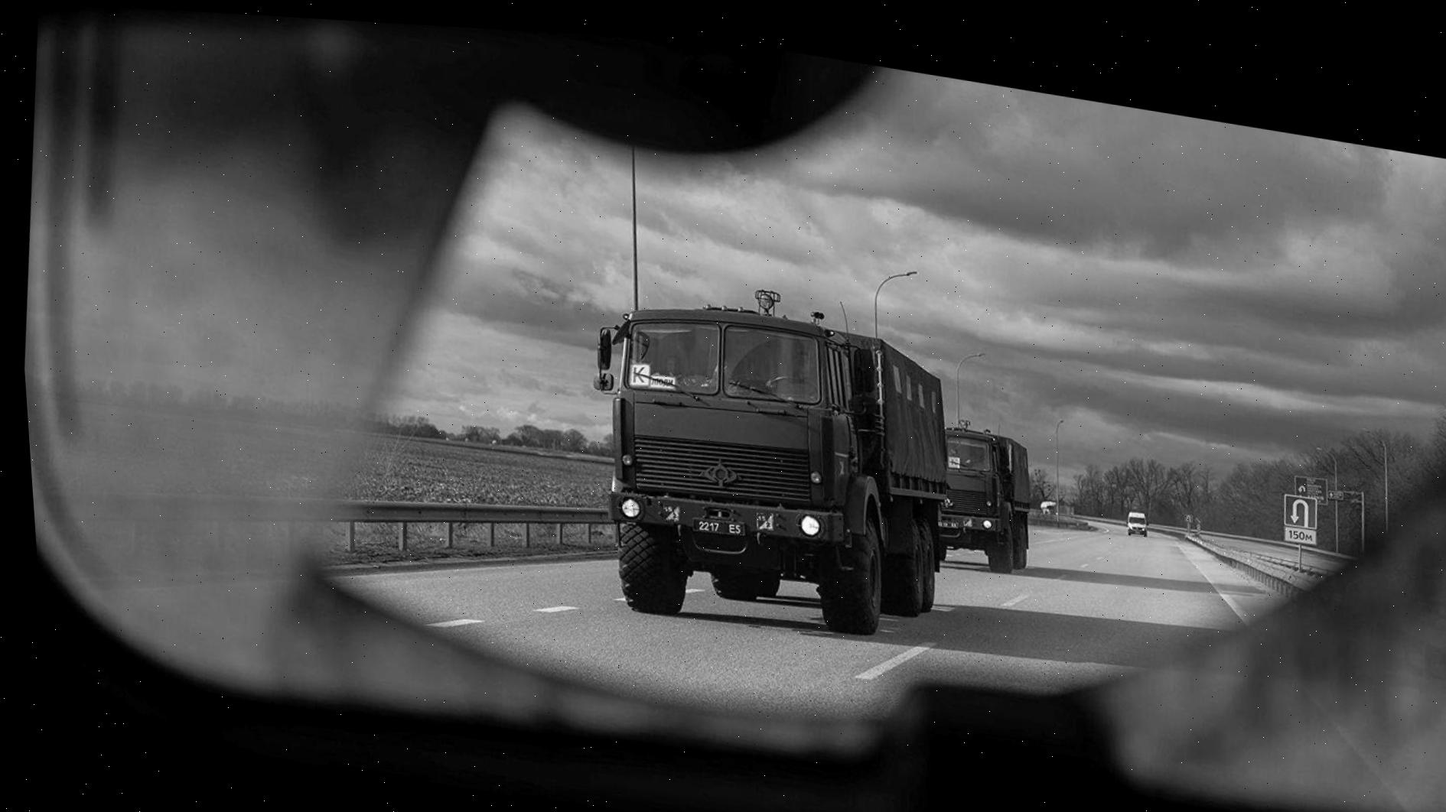truck: (566, 249, 1011, 679), (920, 417, 1059, 601)
